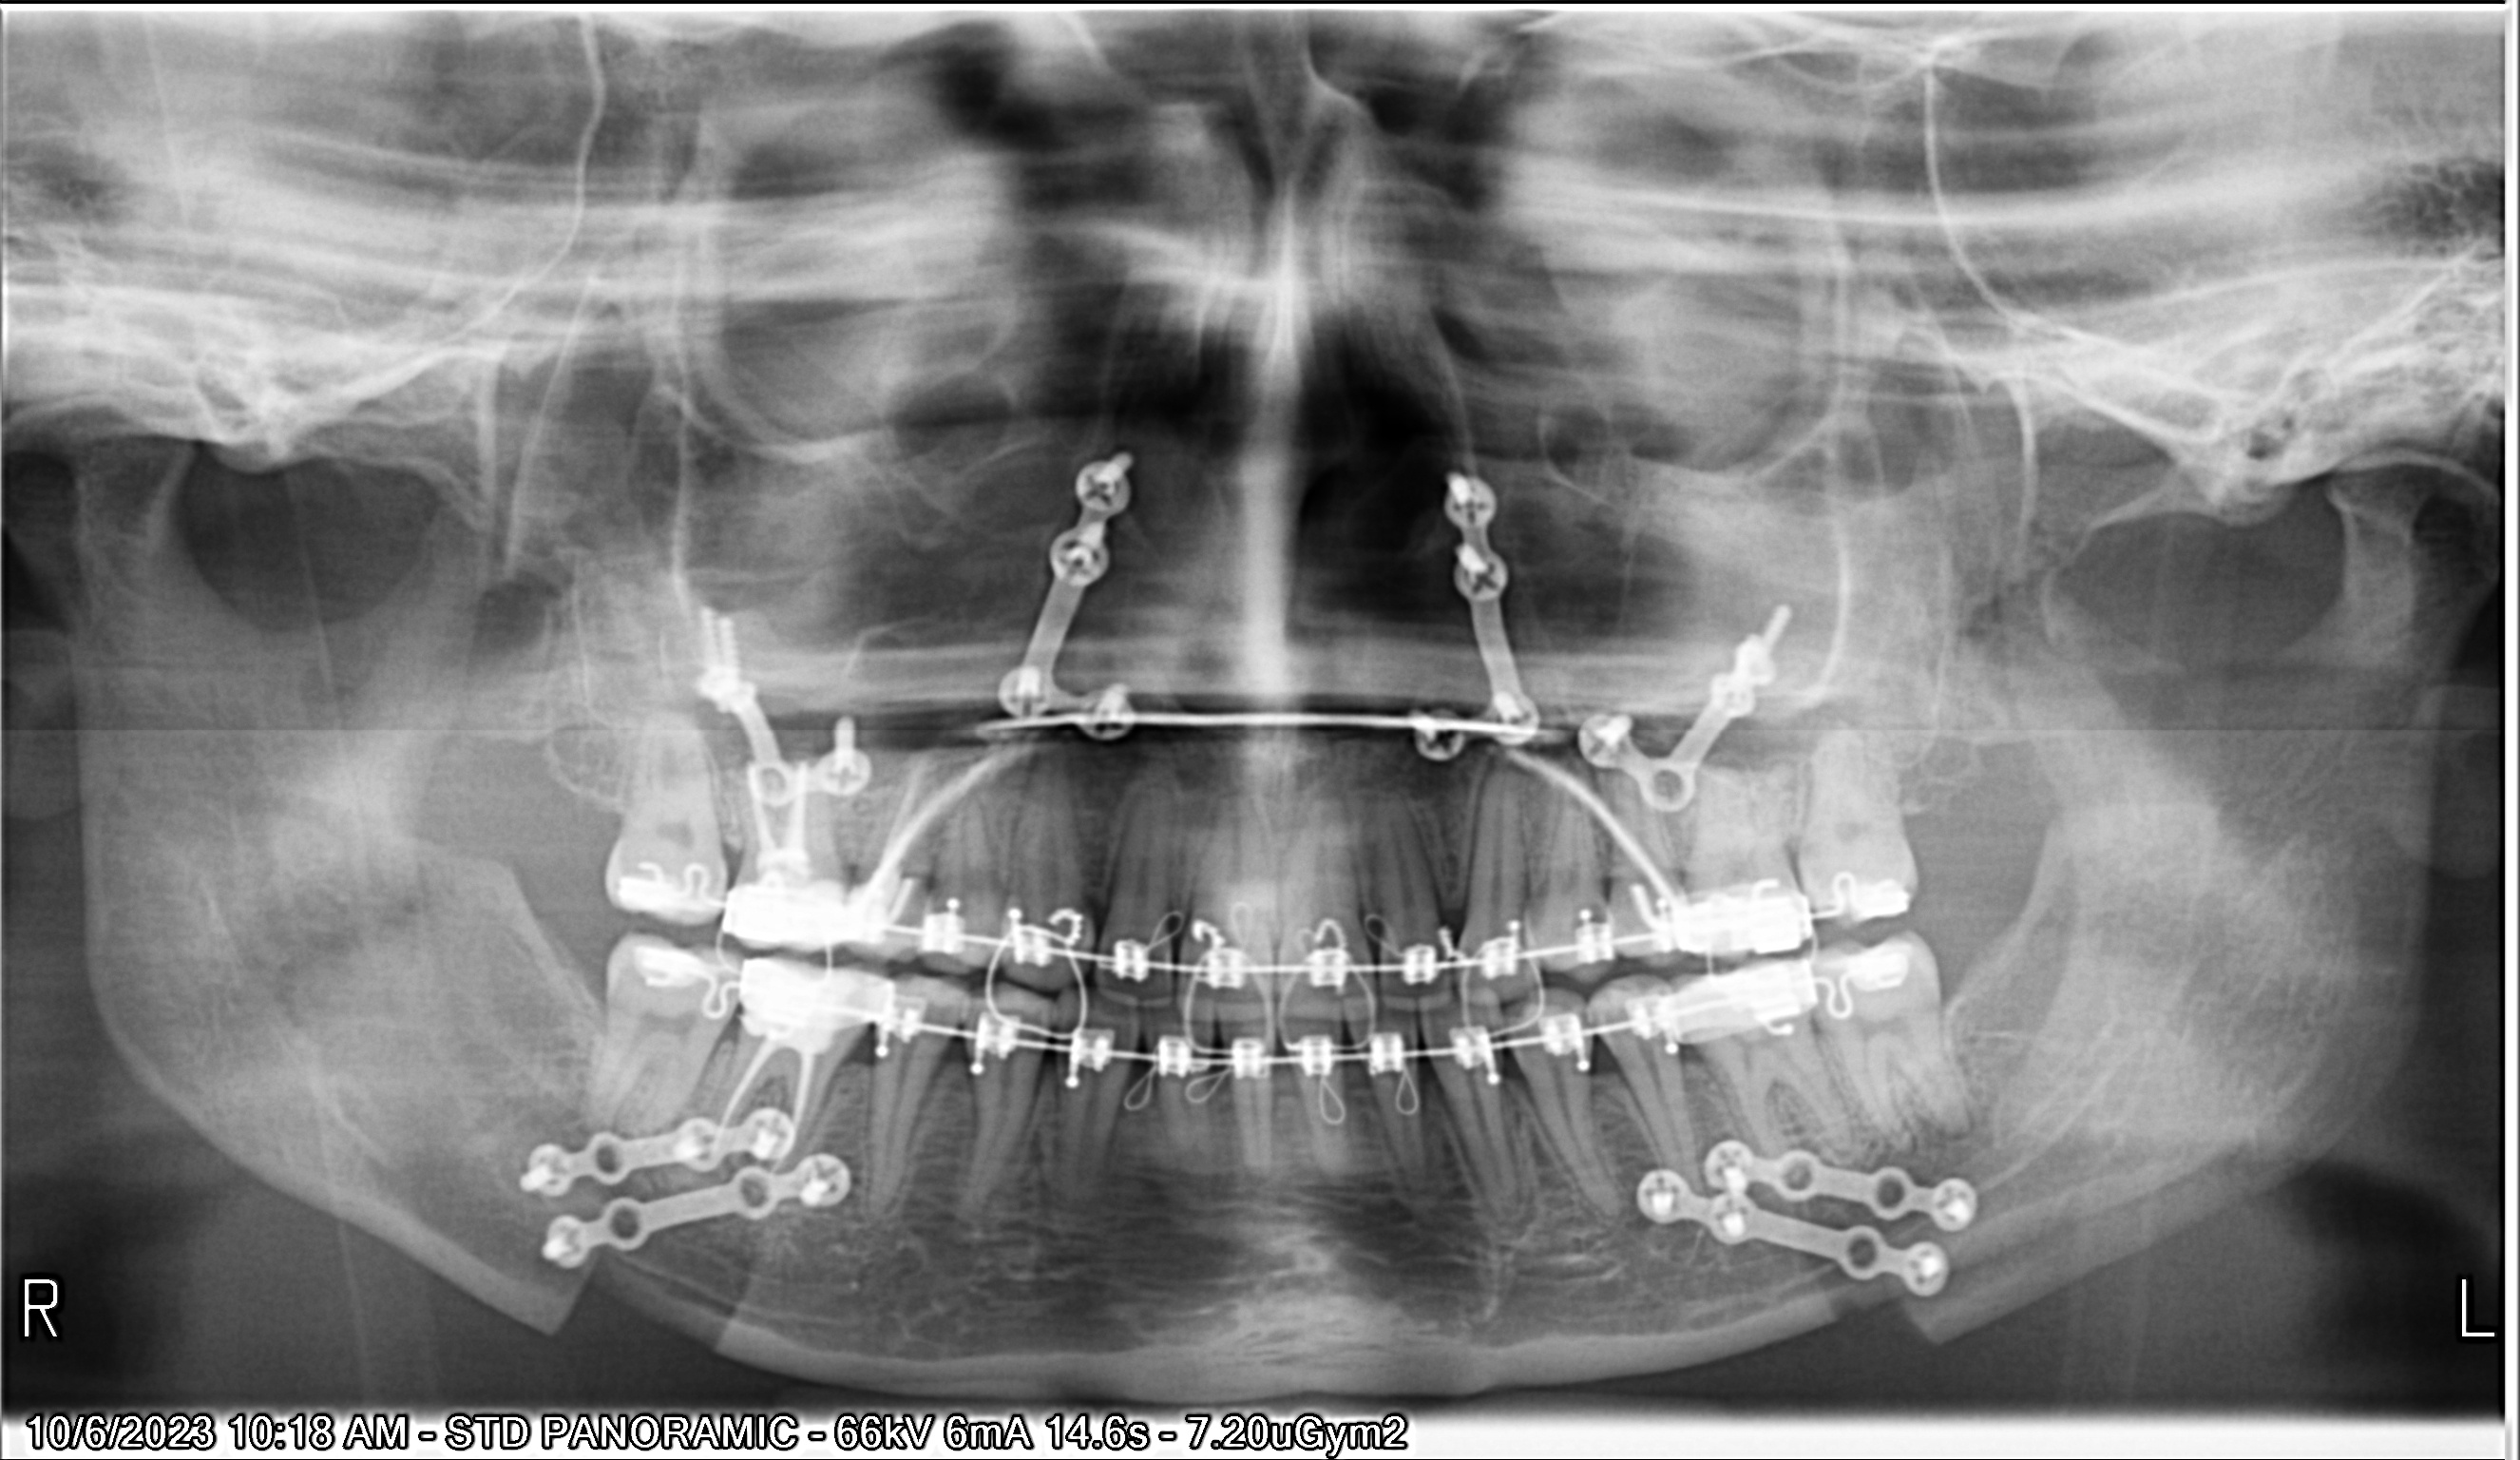END: (691, 1045, 832, 1177), (726, 747, 832, 883)
ORD: (733, 608, 1818, 980), (589, 836, 1957, 1019), (636, 926, 1952, 1088)
SRD: (1504, 584, 1848, 829), (1563, 1123, 1985, 1319), (964, 428, 1188, 770), (523, 1126, 874, 1311), (1375, 433, 1542, 777), (476, 1069, 830, 1224), (676, 589, 907, 822), (1638, 1109, 2053, 1236)
